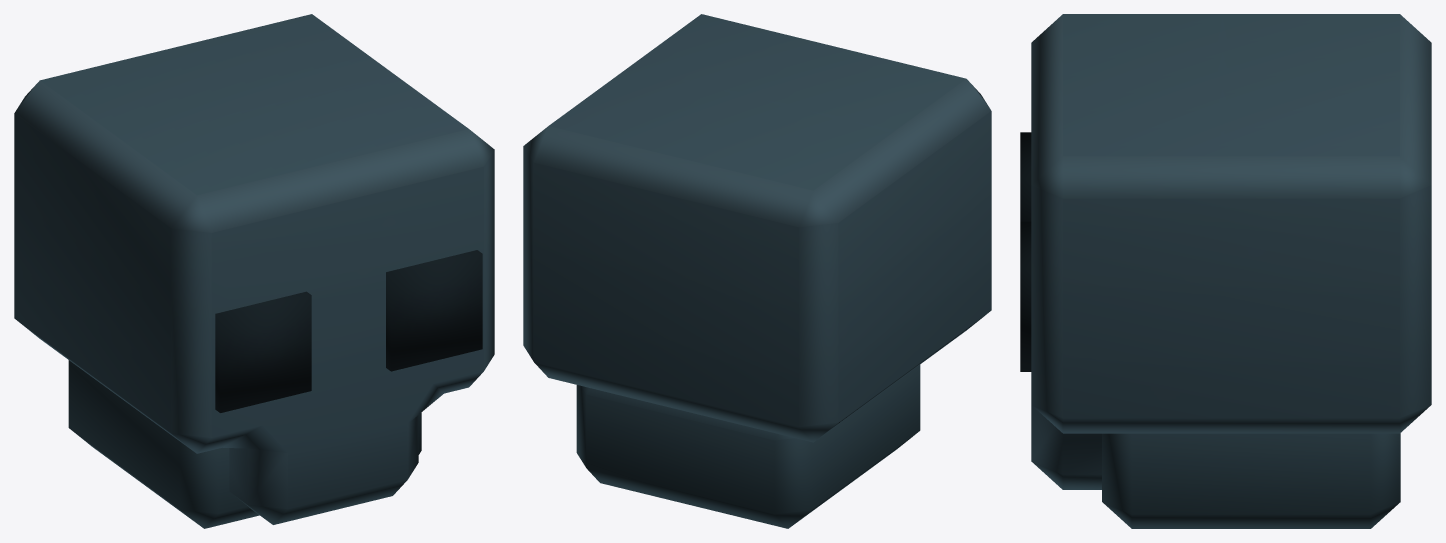
The model's file is skull_stone_01_hue_4.fbx.
3 views of the same model, side by side, from view 1: azimuth 30°, elevation 25°; view 2: azimuth 150°, elevation 25°; view 3: azimuth 270°, elevation 25° (orthographic). The views are drawn at different scales.
Parts seen in each view (by area): view 1: skull_stone_01_hue_4; view 2: skull_stone_01_hue_4; view 3: skull_stone_01_hue_4.
Part boxes in pixels (left/top/right/bottom): skull_stone_01_hue_4: left=14, top=14, right=494, bottom=528; skull_stone_01_hue_4: left=523, top=14, right=991, bottom=528; skull_stone_01_hue_4: left=1020, top=14, right=1431, bottom=528.
Size of the model in its own units: 66.99 by 72.62 by 68.83.
